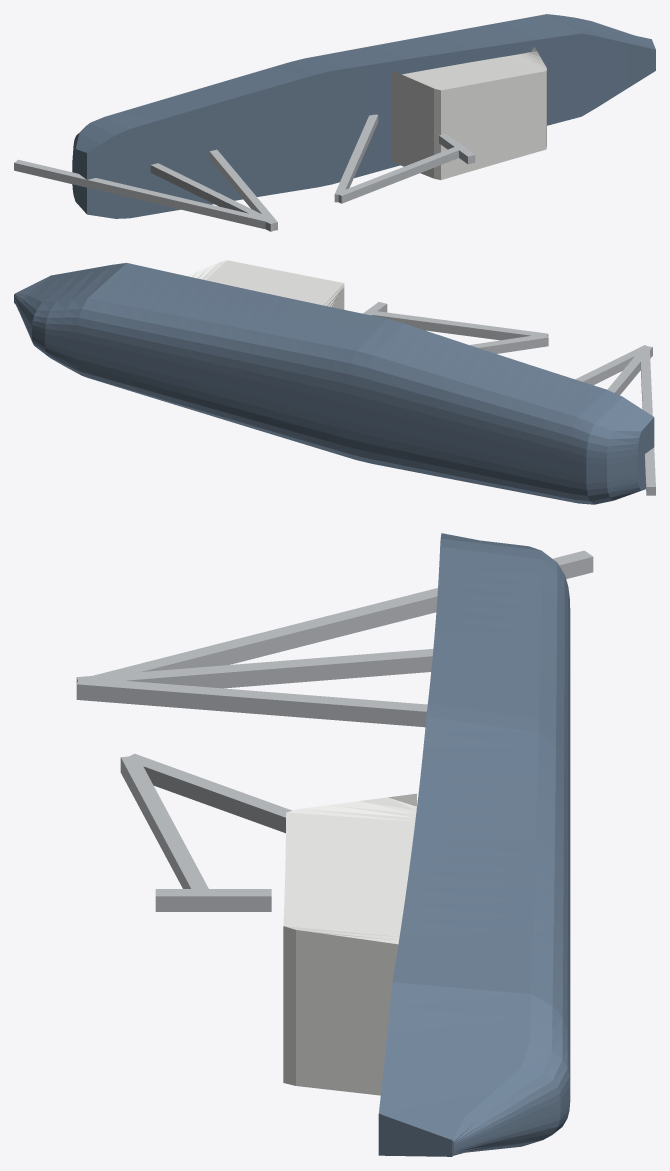
File: loft-fishing-gear-slender.glb
The picture shows the model from 3 angles, top to bottom: view 1: azimuth 30°, elevation 25°; view 2: azimuth 150°, elevation 25°; view 3: azimuth 270°, elevation 25°; orthographic projection. The views are drawn at different scales.
Parts seen in each view (by area): view 1: loft-fishing-gear-slender; view 2: loft-fishing-gear-slender; view 3: loft-fishing-gear-slender.
Part boxes in pixels (bbox=[...]): loft-fishing-gear-slender: bbox=[14, 14, 655, 231]; loft-fishing-gear-slender: bbox=[14, 260, 655, 504]; loft-fishing-gear-slender: bbox=[76, 533, 593, 1156].
Bounding box in the file's own units: 1.95 × 0.3499 × 0.7217.
